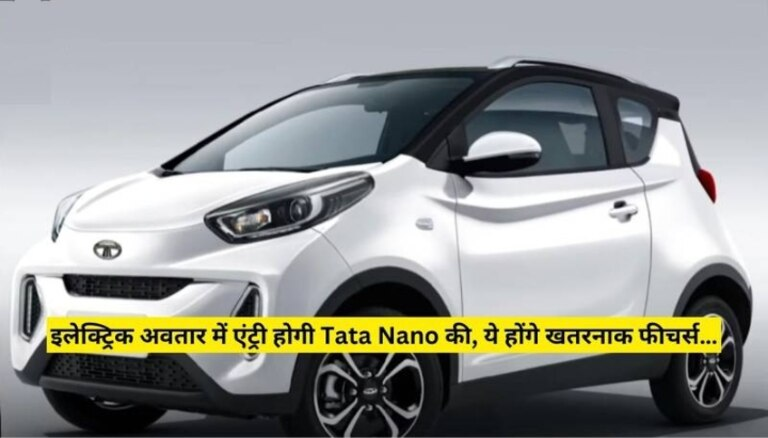Nano: (11, 55, 756, 438)
